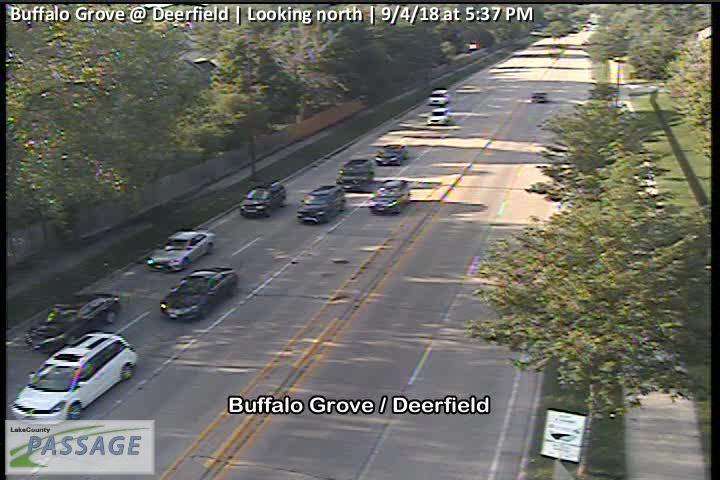SUV: (12, 331, 136, 424), (295, 186, 346, 224), (335, 159, 375, 191)
Sedan: (24, 293, 126, 351), (161, 267, 240, 320), (146, 229, 217, 272), (239, 183, 286, 218), (369, 181, 409, 214), (374, 143, 409, 165), (427, 107, 450, 125), (428, 88, 450, 105), (529, 90, 544, 102)
